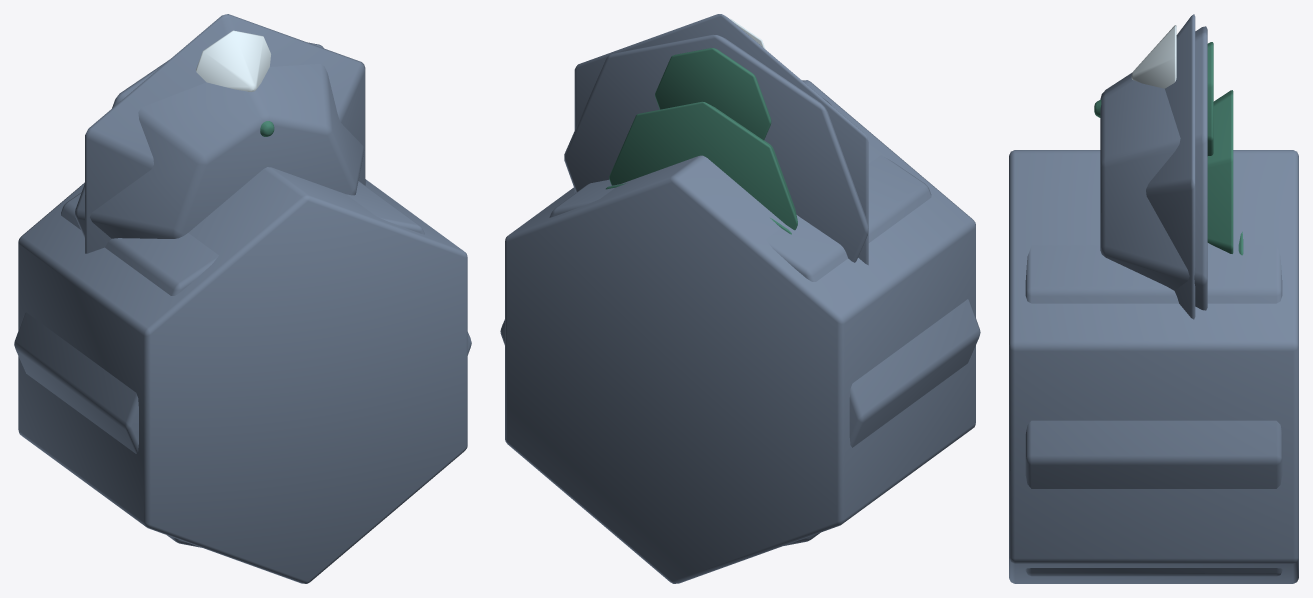
Rendered from resource_tree.glb.
3 views of the same model, side by side, from view 1: azimuth 30°, elevation 25°; view 2: azimuth 150°, elevation 25°; view 3: azimuth 270°, elevation 25° (orthographic). The views are drawn at different scales.
Parts seen in each view (by area): view 1: LOD2_PROXY_base, LOD1_PROXY_cap, LOD2_PROXY_cap, LOD1_PROXY_base, resource_snow2; view 2: LOD2_PROXY_base, LOD1_PROXY_cap, LOD1_PROXY_base, resource_canopy1, LOD2_PROXY_cap, resource_canopy2; view 3: LOD2_PROXY_base, LOD1_PROXY_base, LOD1_PROXY_cap, LOD2_PROXY_cap, resource_canopy1, resource_snow2, resource_canopy2.
Part boxes in pixels (box(x1,y1,x2,y2)): LOD2_PROXY_base: box(18, 167, 467, 583); LOD1_PROXY_cap: box(75, 42, 364, 238); LOD2_PROXY_cap: box(85, 14, 365, 253); LOD1_PROXY_base: box(14, 181, 471, 547); resource_snow2: box(196, 30, 270, 91); LOD2_PROXY_base: box(505, 80, 975, 583); LOD1_PROXY_cap: box(564, 34, 868, 262); LOD1_PROXY_base: box(500, 155, 980, 545); resource_canopy1: box(609, 101, 797, 230); LOD2_PROXY_cap: box(574, 14, 868, 265); resource_canopy2: box(655, 48, 771, 140); LOD2_PROXY_base: box(1009, 150, 1298, 583); LOD1_PROXY_base: box(1025, 245, 1282, 576); LOD1_PROXY_cap: box(1100, 26, 1207, 310); LOD2_PROXY_cap: box(1146, 14, 1195, 319); resource_canopy1: box(1207, 90, 1233, 253); resource_snow2: box(1131, 25, 1176, 88); resource_canopy2: box(1094, 42, 1213, 155).
Bounding box in the file's own units: 2.69 × 3.79 × 1.75.
